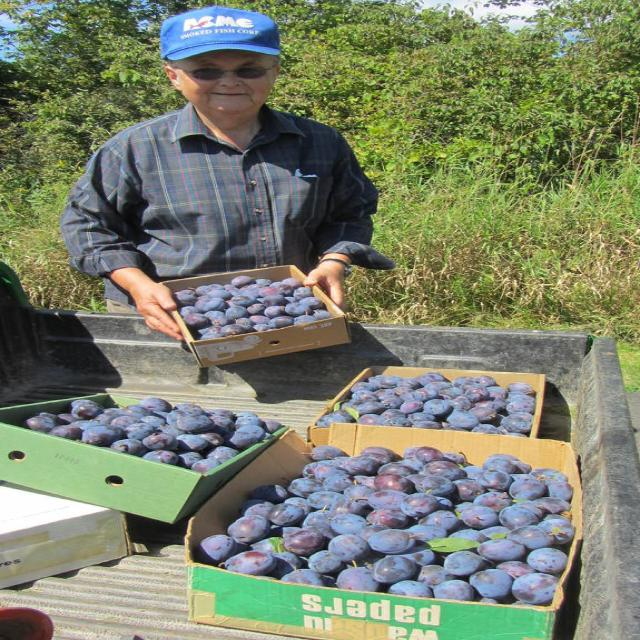Hat: (154, 12, 280, 62)
